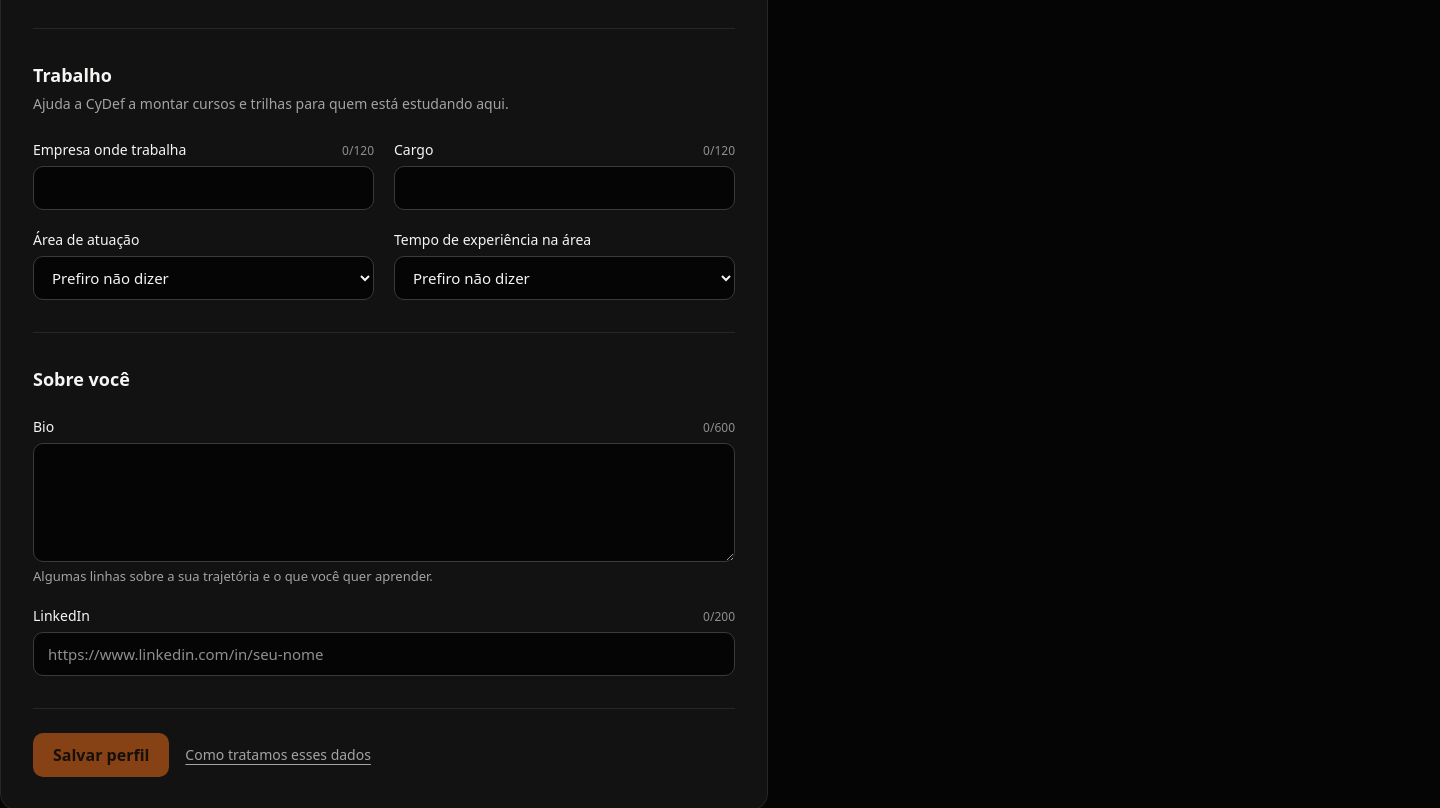
Scenario: Meu perfil › mostra a mensagem do banco quando um campo é recusado
This screenshot has width=1440, height=808.
(page scrolled)
Type "https://www.linkedin.com/in/ana" into the field labelled "LinkedIn" at [384, 654], box [33,632,735,676]
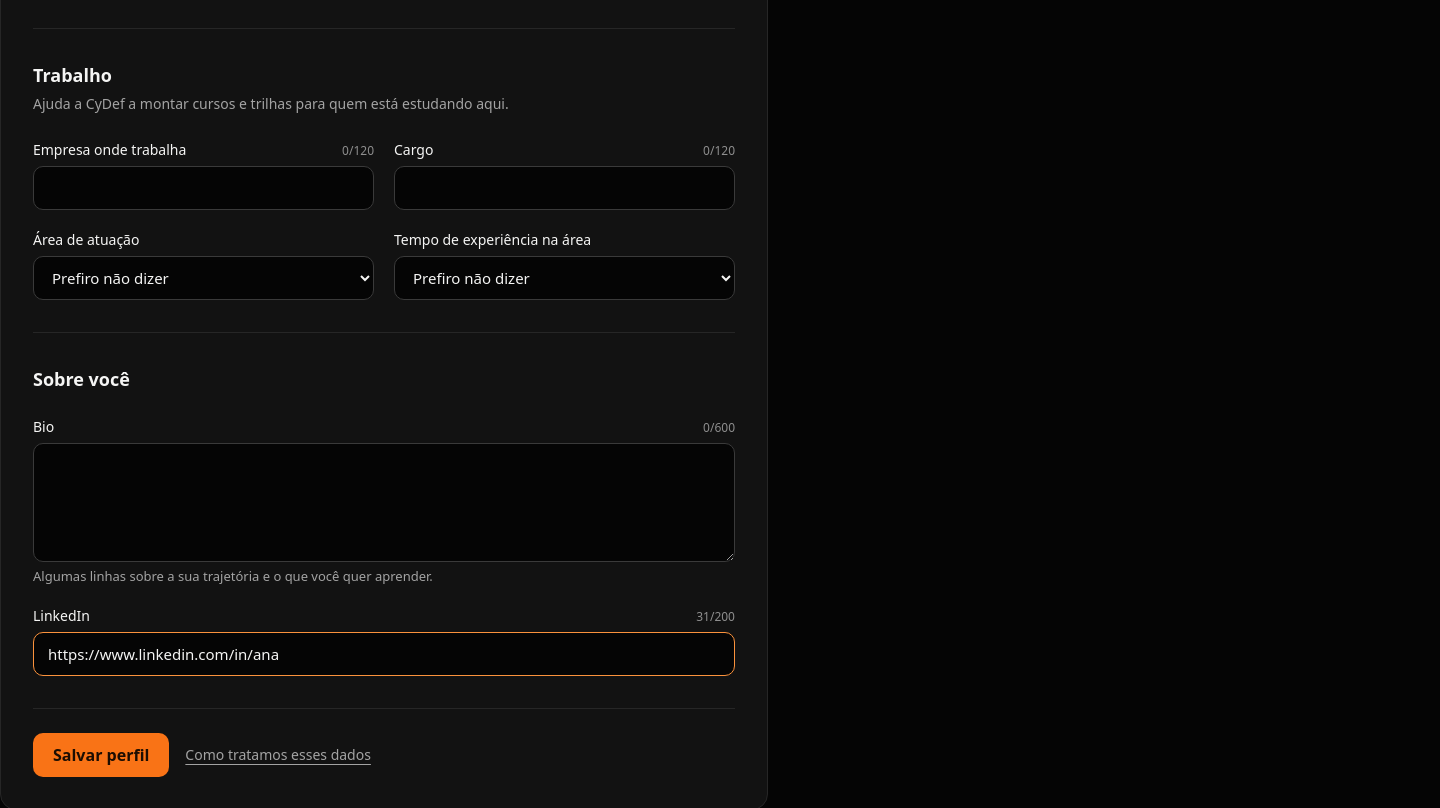
Click the button "Salvar perfil" at [101, 755], box [33,733,169,777]
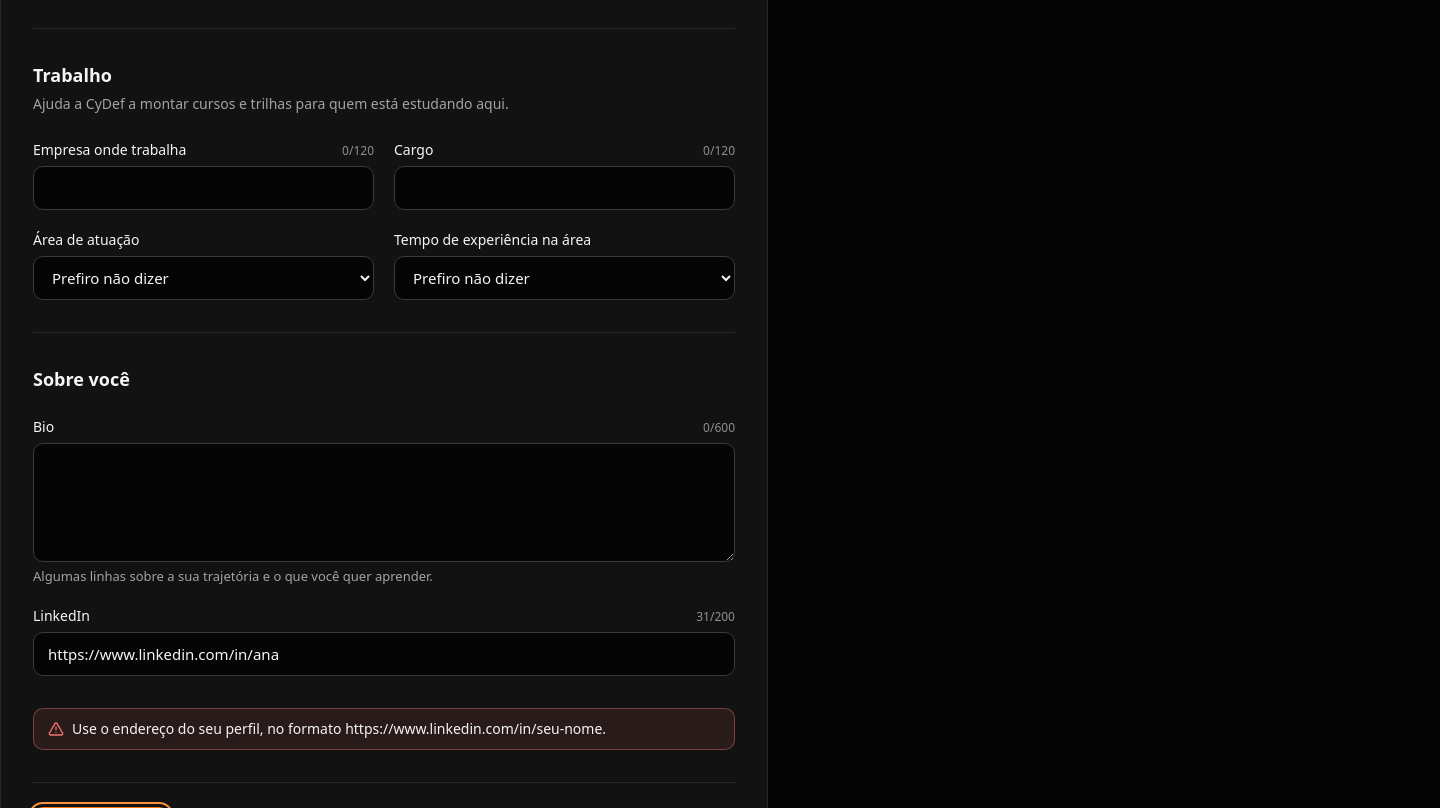
Now the text "Use o endereço do seu perfil, no formato https://www.linkedin.com/in/seu-nome." is shown, box [33,708,735,750]
